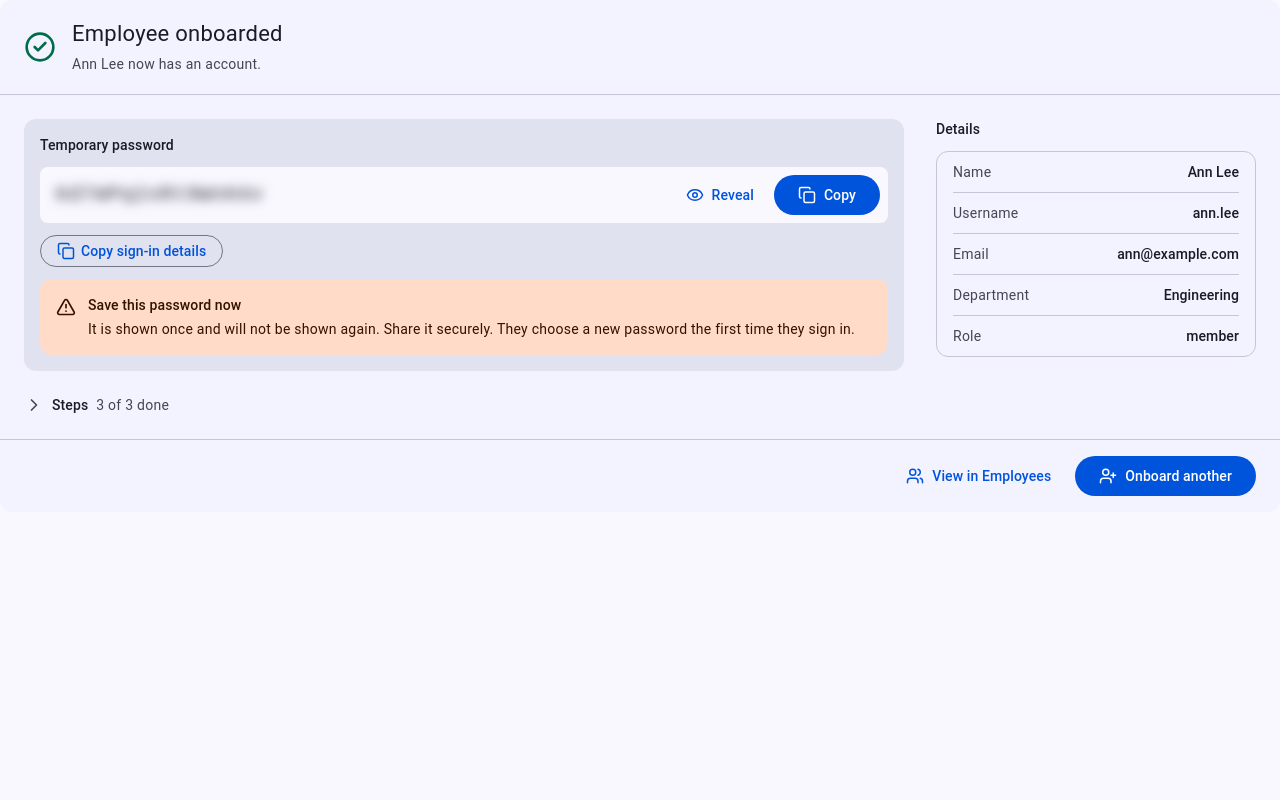
OnboardResultView: the one-time password › shows no success toast when the clipboard refuses, only the inline message
Click the button "Copy". click: (827, 195)
box: [774,175,880,215]
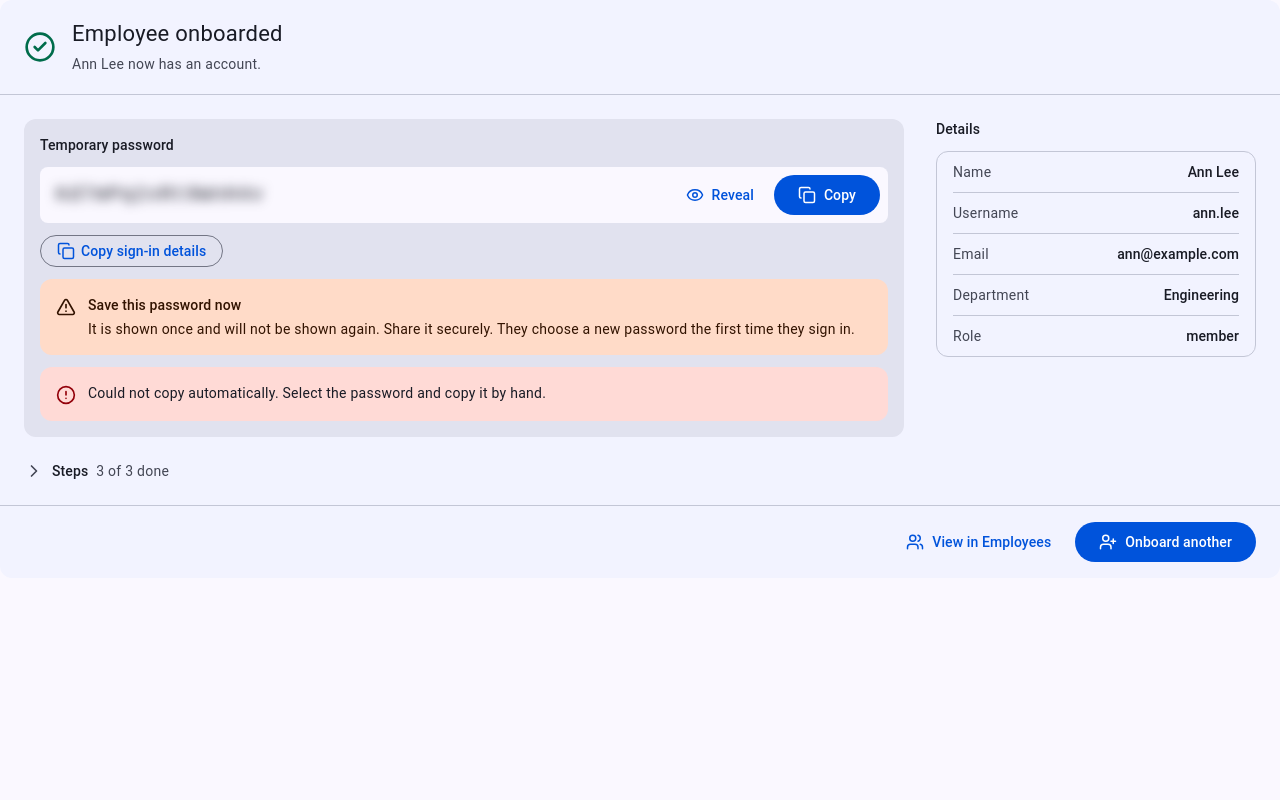
Expected: the text "Could not copy automatically" is shown, [88,385,546,401]
